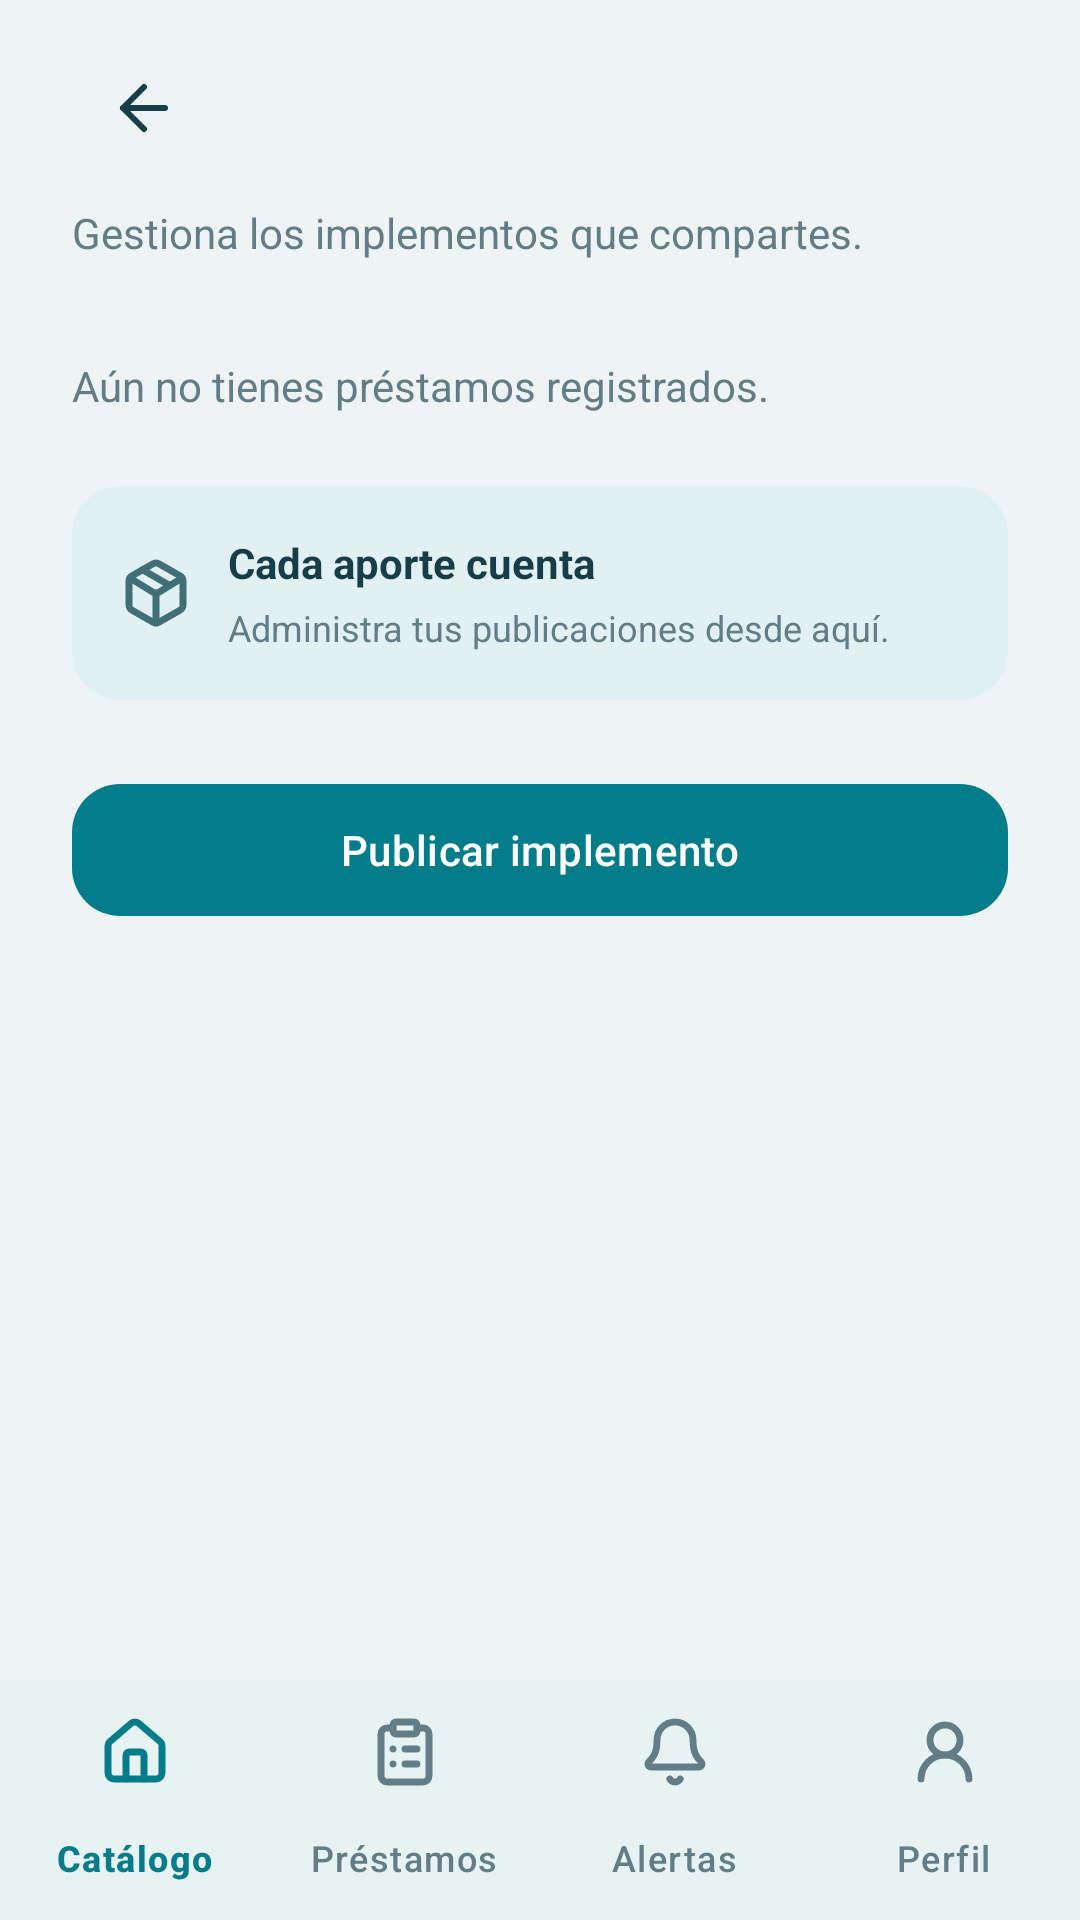

Icon bounding boxes for this 1080×1920 phone screenshot, format (x1, y1, x2, y2):
Volver: (120, 84, 168, 132)
